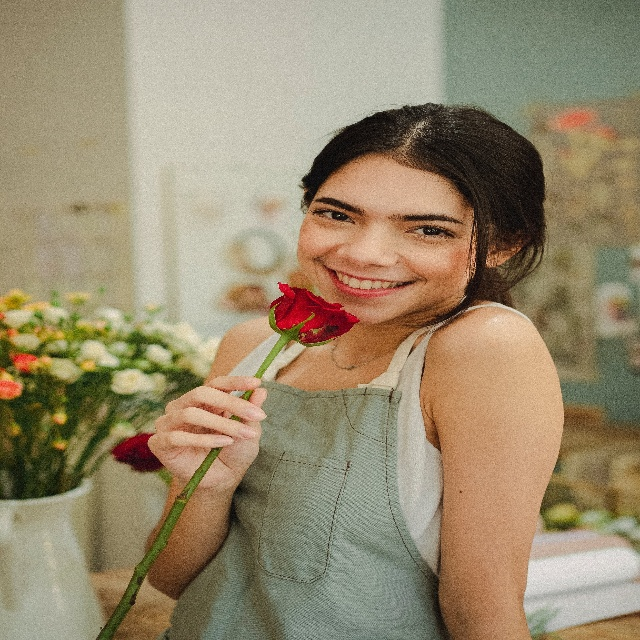Sin_guantes: (147, 383, 268, 495)
